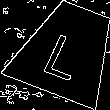L_NE: (40, 21, 94, 80)
